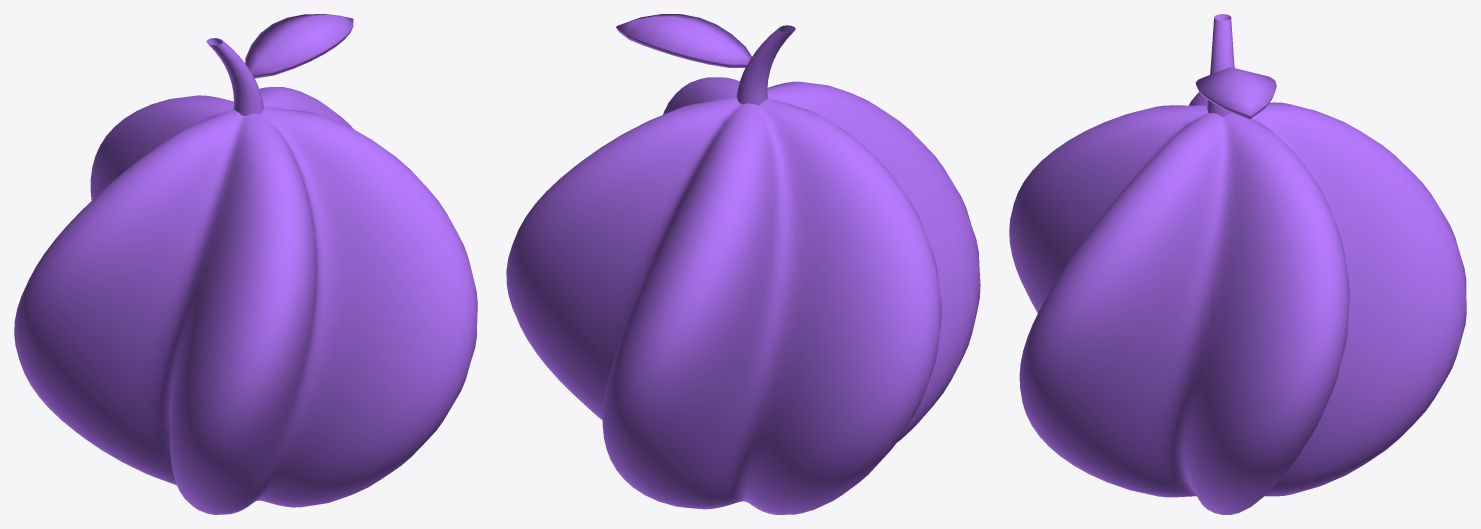
Rendered from Manoeuvrability.fbx.
3 renders of one model, left to right at view 1: azimuth 30°, elevation 25°; view 2: azimuth 150°, elevation 25°; view 3: azimuth 270°, elevation 25°, orthographic. The views are drawn at different scales.
Parts seen in each view (by area): view 1: Manoeuvrability Fruit; view 2: Manoeuvrability Fruit; view 3: Manoeuvrability Fruit.
Part boxes in pixels (<box>): Manoeuvrability Fruit: <box>14,14,477,514</box>; Manoeuvrability Fruit: <box>506,14,980,514</box>; Manoeuvrability Fruit: <box>1009,14,1466,514</box>.
Bounding box in the file's own units: 90 × 100 × 90.
